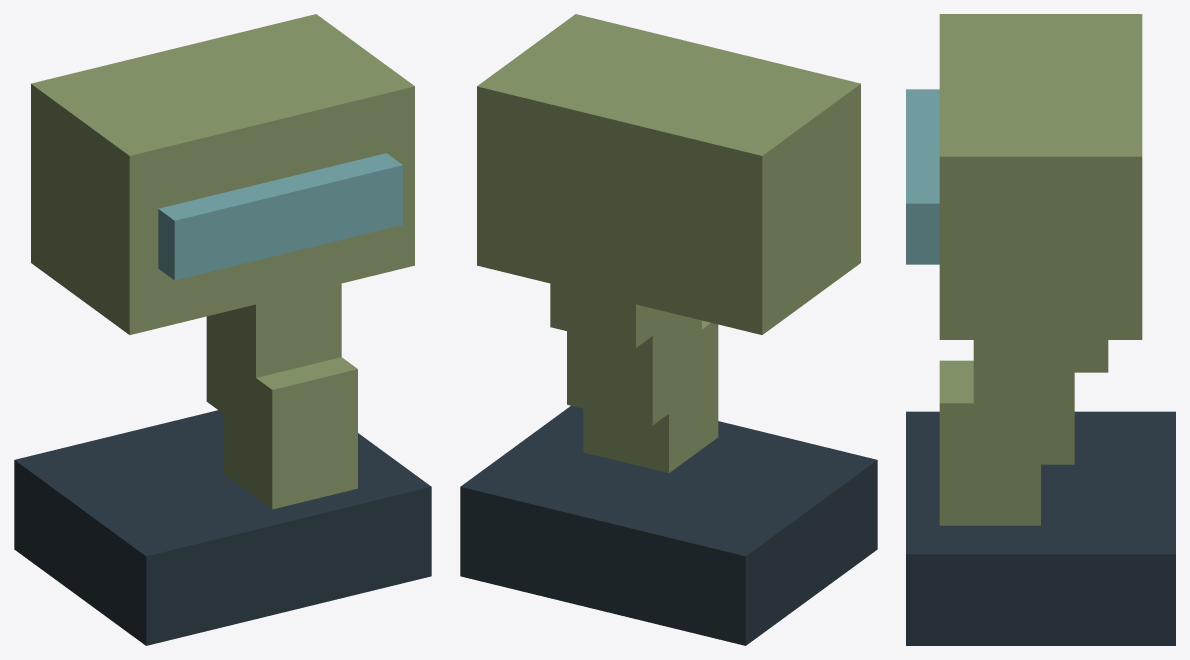
Rendered from biotech-17.glb.
3 renders of one model, left to right at view 1: azimuth 30°, elevation 25°; view 2: azimuth 150°, elevation 25°; view 3: azimuth 270°, elevation 25°, orthographic. The views are drawn at different scales.
Parts seen in each view (by area): view 1: Lab scanner; view 2: Lab scanner; view 3: Lab scanner.
Boxes of the visible parts, x1=… form: Lab scanner: x1=14, y1=14, x2=431, y2=645; Lab scanner: x1=460, y1=14, x2=877, y2=645; Lab scanner: x1=906, y1=14, x2=1175, y2=645.
Bounding box in the file's own units: 0.8 × 1.28 × 0.64.
